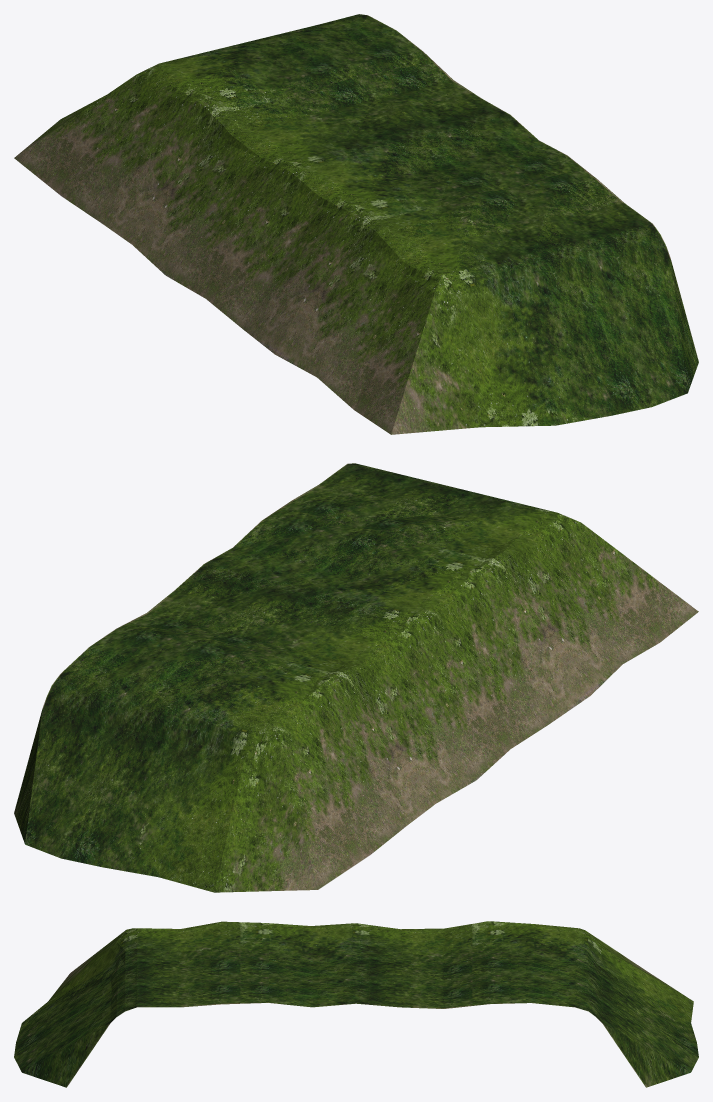
The model's file is steepr.gltf.
3 renders of one model, top to bottom at view 1: azimuth 30°, elevation 25°; view 2: azimuth 150°, elevation 25°; view 3: azimuth 270°, elevation 25°, orthographic. The views are drawn at different scales.
Visible parts, largest first — view 1: steepr; view 2: steepr; view 3: steepr.
Boxes of the visible parts, bbox=[...] form: steepr: bbox=[14, 14, 698, 434]; steepr: bbox=[14, 463, 698, 892]; steepr: bbox=[14, 921, 698, 1087].
Size of the model in its own units: 61.17 by 22.33 by 152.
Materials: 1 (1 with a texture image).
